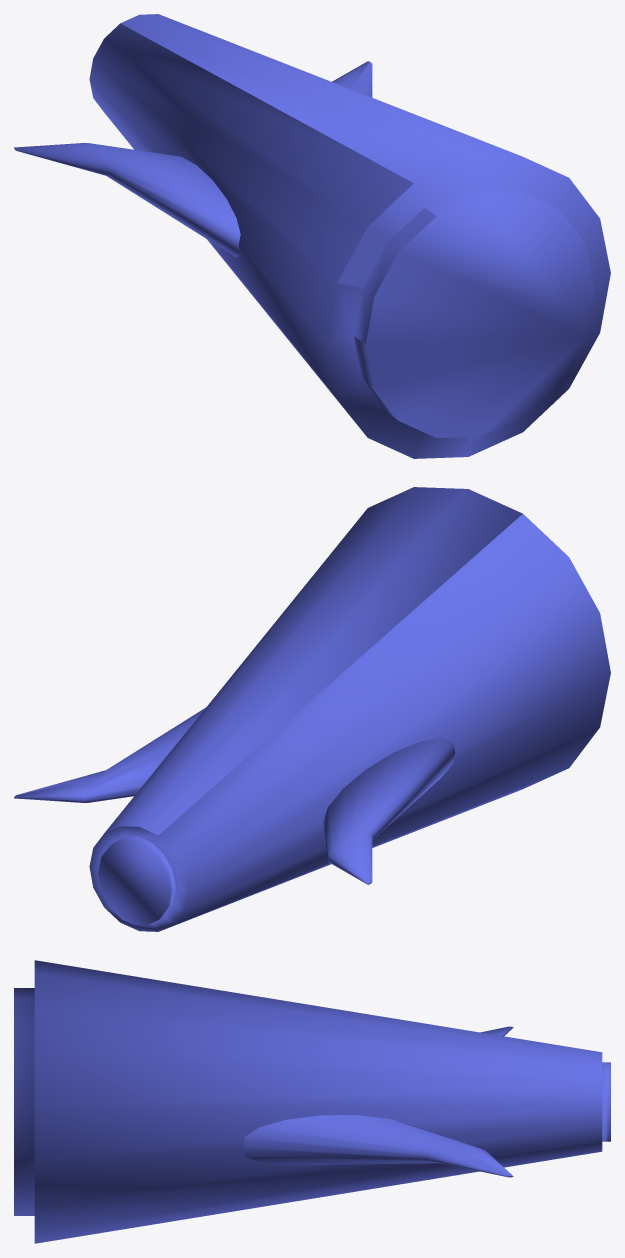
File: body1.fbx
The picture shows the model from 3 angles, top to bottom: view 1: azimuth 30°, elevation 25°; view 2: azimuth 150°, elevation 25°; view 3: azimuth 270°, elevation 25°; orthographic projection. The views are drawn at different scales.
Visible parts, largest first — view 1: Sphere.007; view 2: Sphere.007; view 3: Sphere.007.
Boxes of the visible parts, x1=… form: Sphere.007: x1=14, y1=14, x2=610, y2=458; Sphere.007: x1=14, y1=487, x2=610, y2=931; Sphere.007: x1=14, y1=960, x2=610, y2=1243.
Size of the model in its own units: 250 by 200 by 420.
